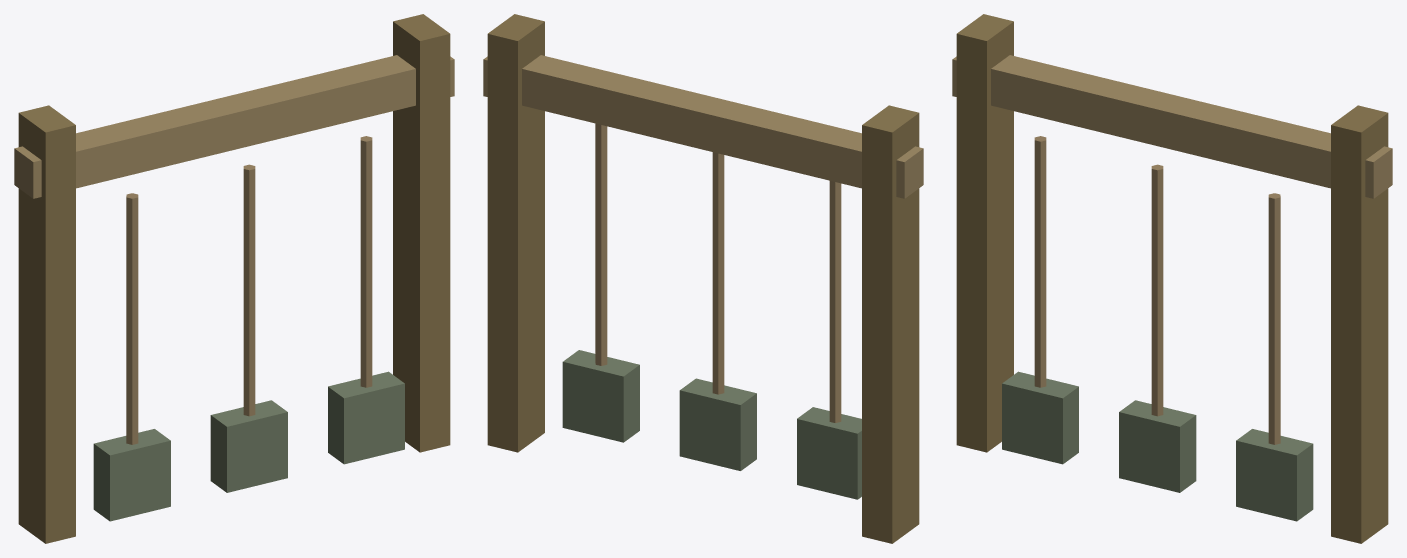
The model's file is map-exclusive-v3__farm_08.glb.
The picture shows the model from 3 angles, left to right: view 1: azimuth 30°, elevation 25°; view 2: azimuth 150°, elevation 25°; view 3: azimuth 330°, elevation 25°; orthographic projection.
Parts seen in each view (by area): view 1: farm_08; view 2: farm_08; view 3: farm_08.
Boxes of the visible parts, left/top/right/bottom form: farm_08: left=14, top=14, right=454, bottom=543; farm_08: left=483, top=14, right=923, bottom=543; farm_08: left=952, top=14, right=1392, bottom=543.
Bounding box in the file's own units: 1.8 × 1.68 × 0.27.
